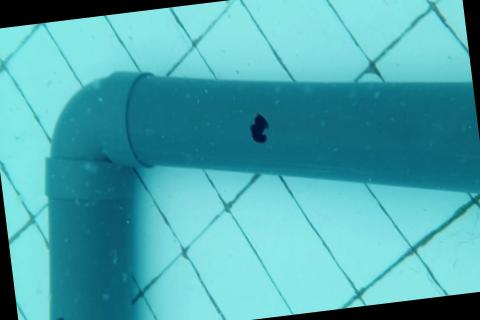kebocoran: (246, 110, 270, 146), (52, 315, 69, 320)
